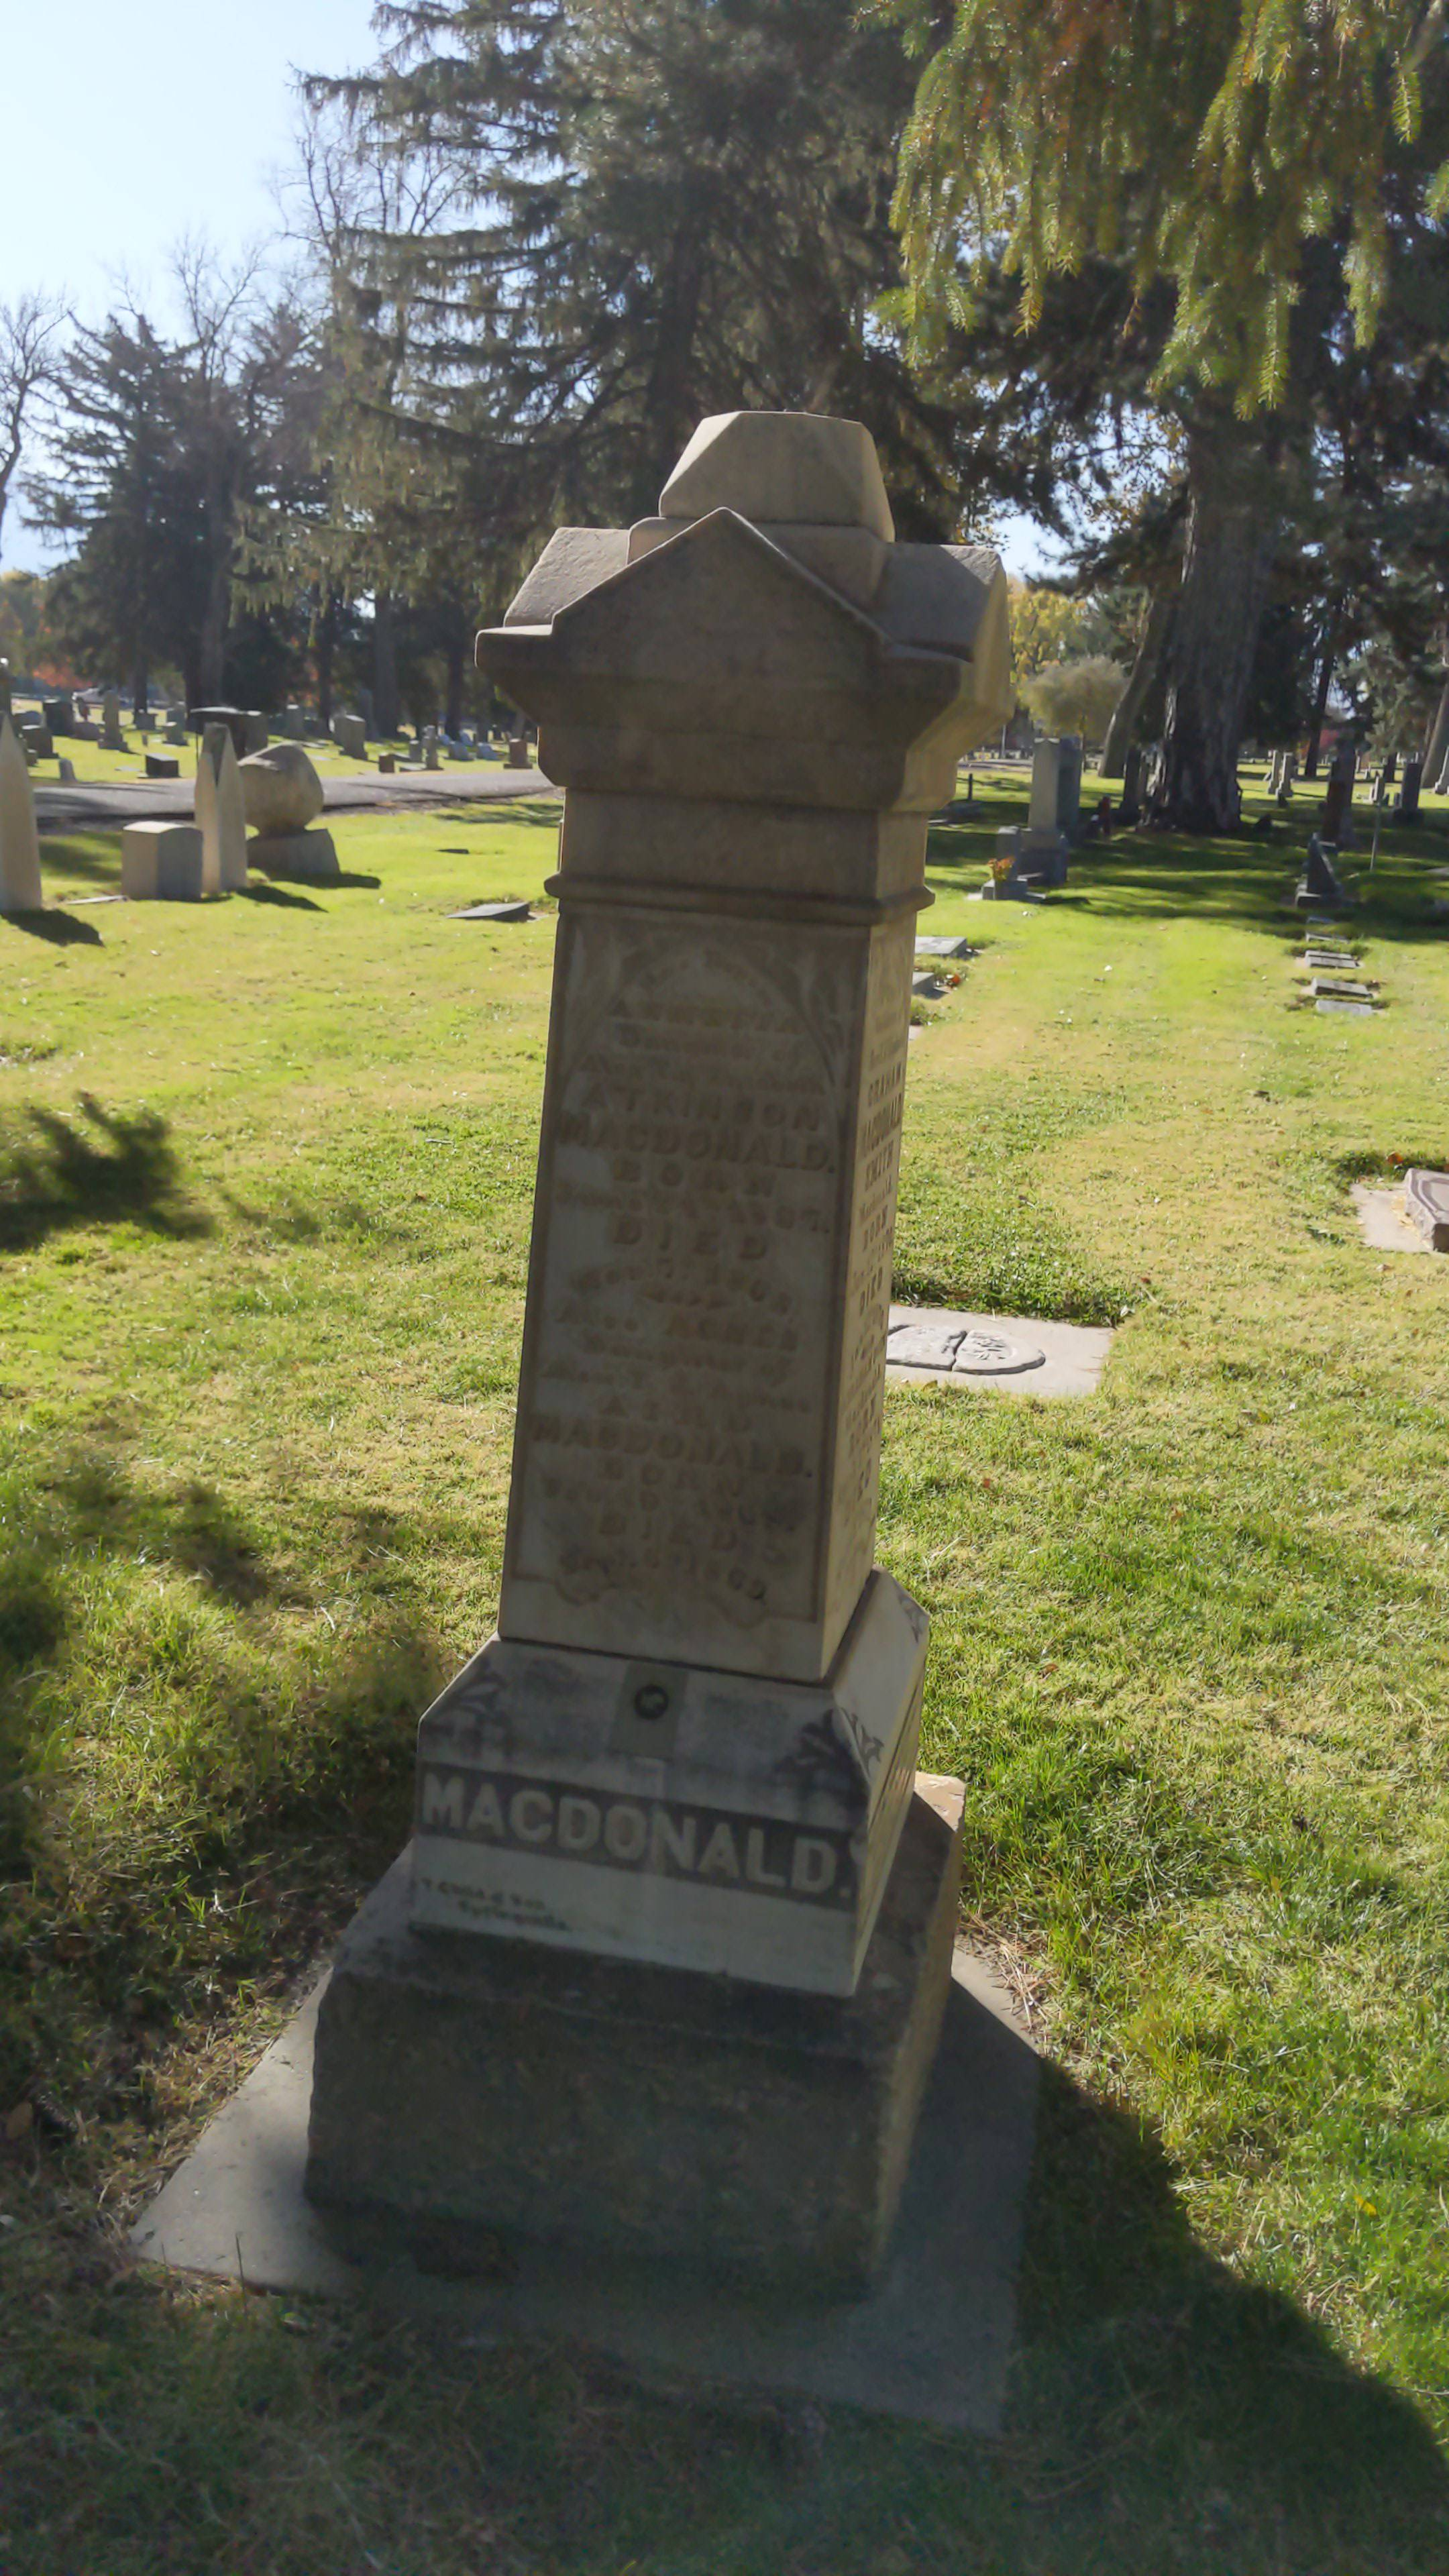obelisk: (400, 407, 1001, 1960)
